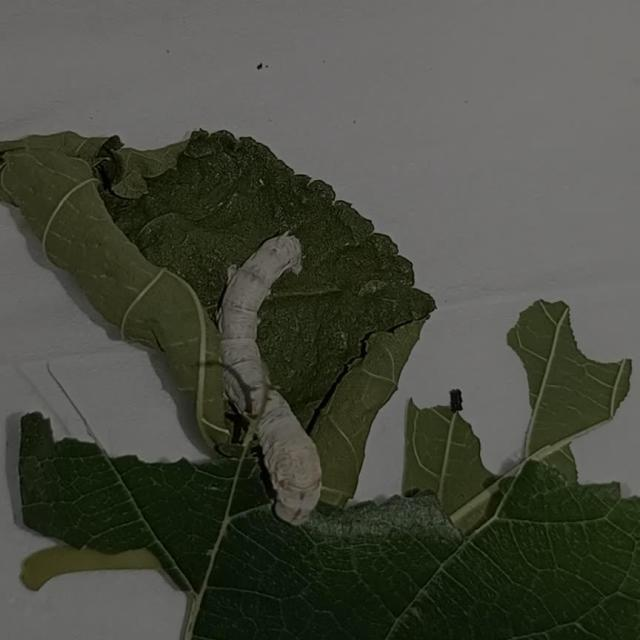Healthy: (153, 195, 389, 562)
